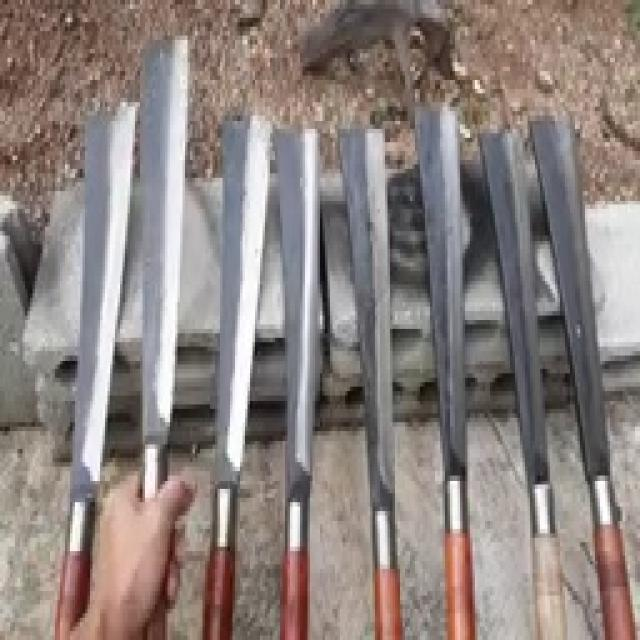eto: (528, 99, 639, 640), (473, 118, 572, 640), (53, 99, 140, 640), (201, 100, 277, 640), (412, 100, 483, 640), (337, 131, 404, 640), (142, 29, 194, 640), (274, 121, 322, 640)
